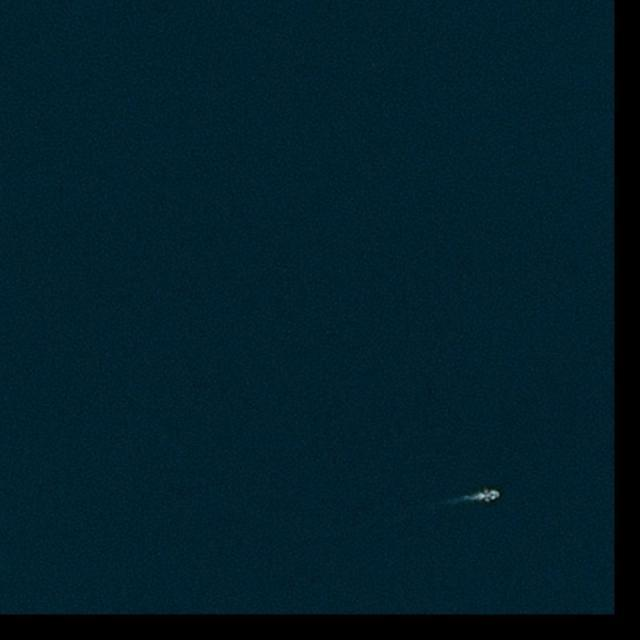ship: (483, 494, 494, 498)
